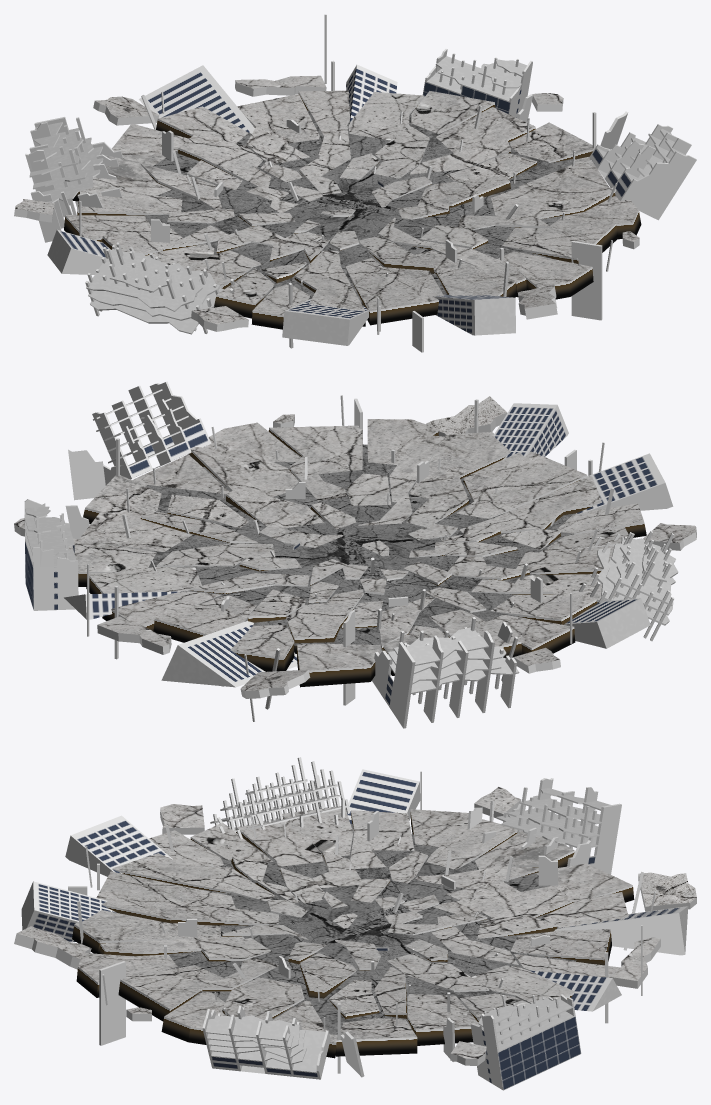
File: Crater_001.fbx
3 renders of one model, top to bottom at view 1: azimuth 30°, elevation 25°; view 2: azimuth 150°, elevation 25°; view 3: azimuth 270°, elevation 25°, orthographic. The views are drawn at different scales.
Parts seen in each view (by area): view 1: Crater_001; view 2: Crater_001; view 3: Crater_001.
Part boxes in pixels (bbox=[...]): Crater_001: bbox=[14, 14, 696, 352]; Crater_001: bbox=[14, 381, 696, 728]; Crater_001: bbox=[14, 757, 696, 1090].
Size of the model in its own units: 271 by 58.53 by 275.
